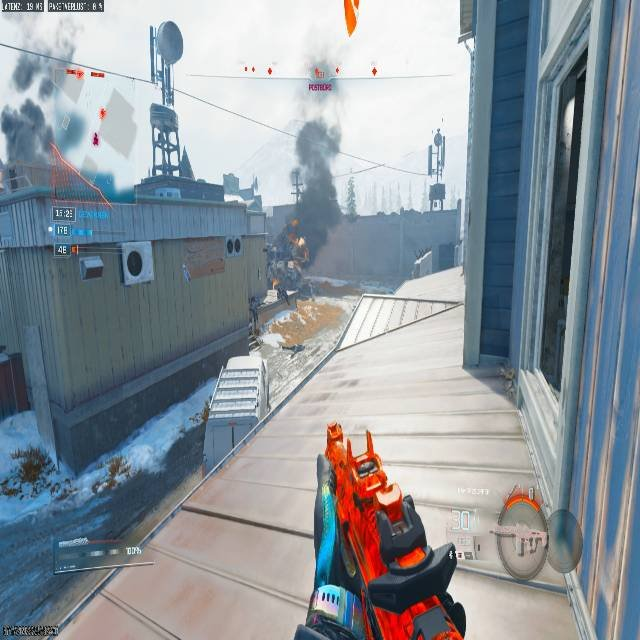head: (287, 217, 301, 233)
player: (250, 225, 314, 349), (267, 218, 309, 298)
